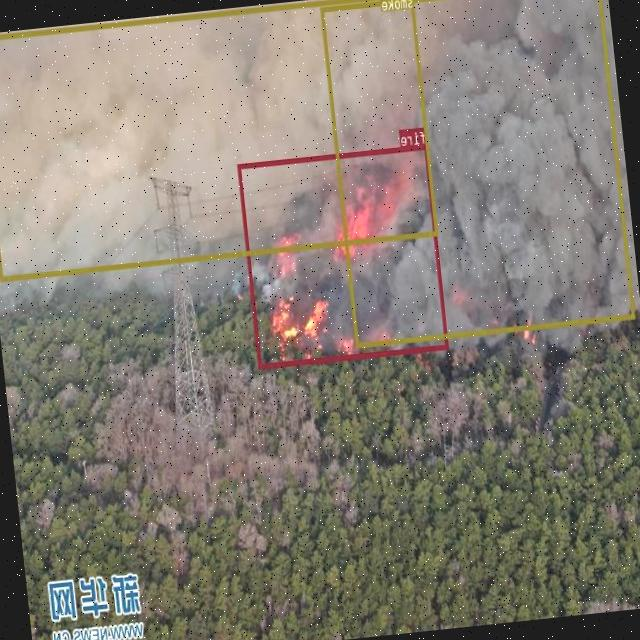fire: (238, 142, 449, 368)
smoke: (0, 0, 439, 280), (320, 0, 635, 346)
